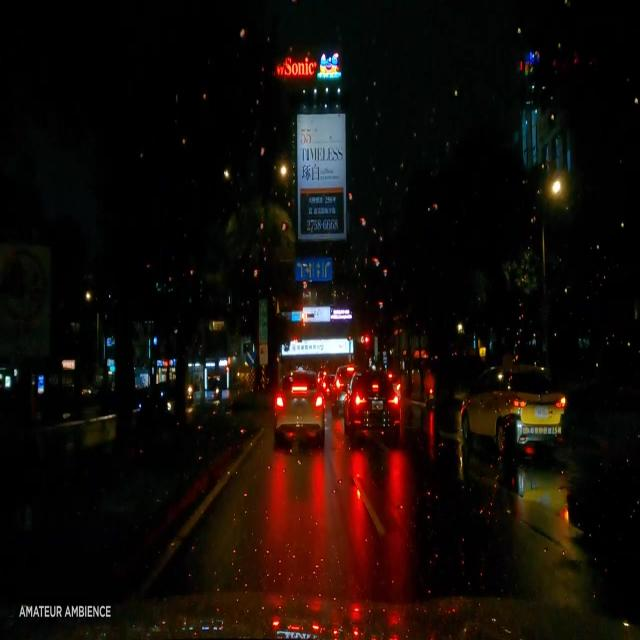Car: (457, 366, 562, 464), (272, 363, 321, 449), (346, 368, 395, 443)
